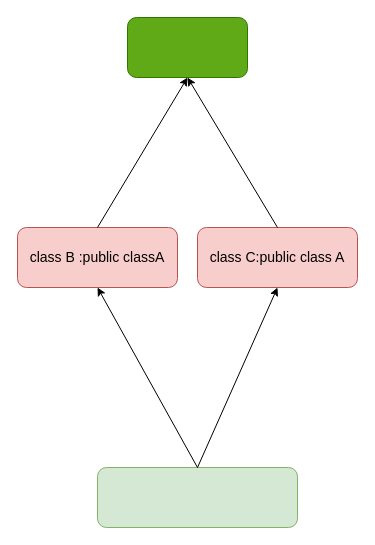
This 375x545 diagram has some shape labels left out. Here are the shapes that lost their labels. From the top down, the centre of each, then its label:
(187,47): class A
(197,497): class D：public B，public C
